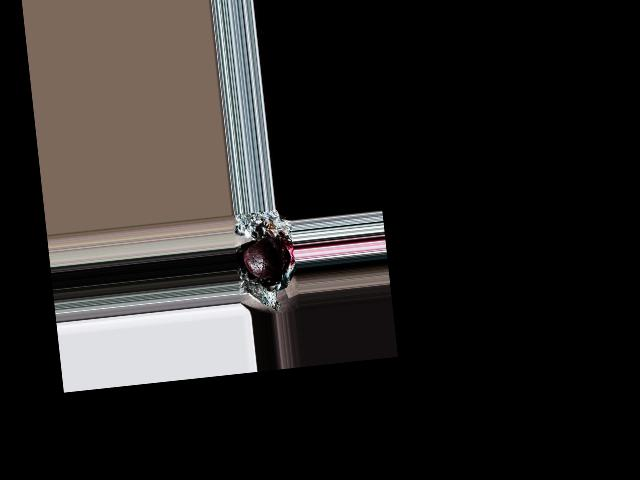beet: (241, 234, 284, 281)
